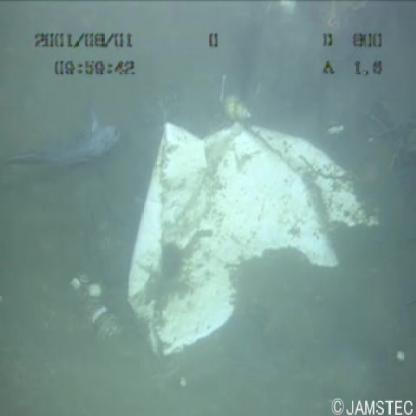Bio: (4, 96, 146, 200), (219, 82, 266, 120)
Rác: (100, 118, 380, 359)
